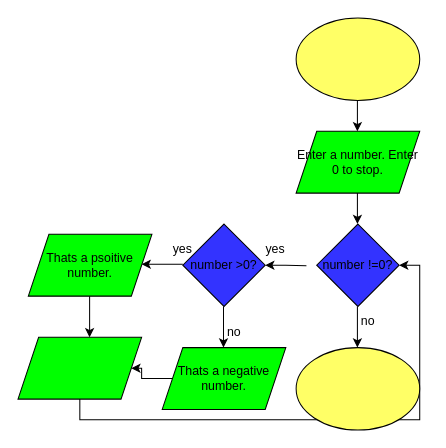
This 446x448 diagram has some shape labels left out. Each missing label, with the centre of its shape:
"END" goes at [357,388].
"Enter another number. Enter 0 to stop." goes at [79,367].
"START" goes at [357,58].
